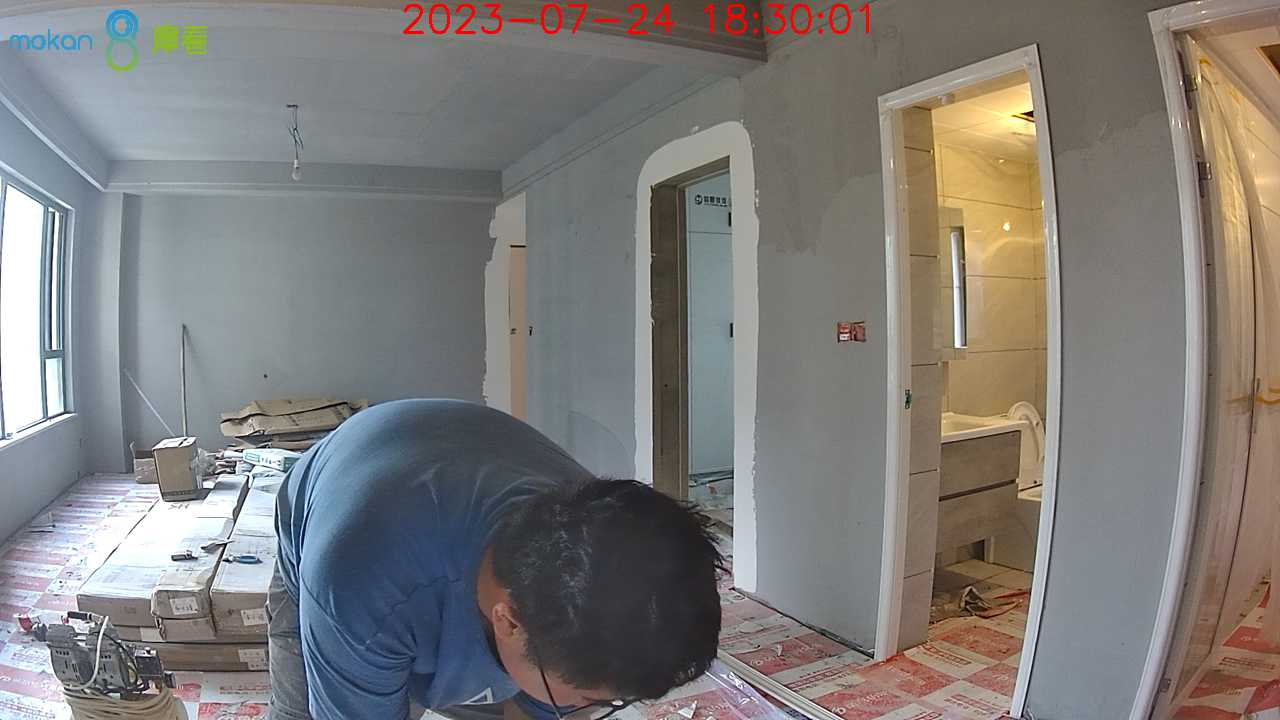people: (260, 393, 725, 720)
window: (1, 190, 76, 429)
